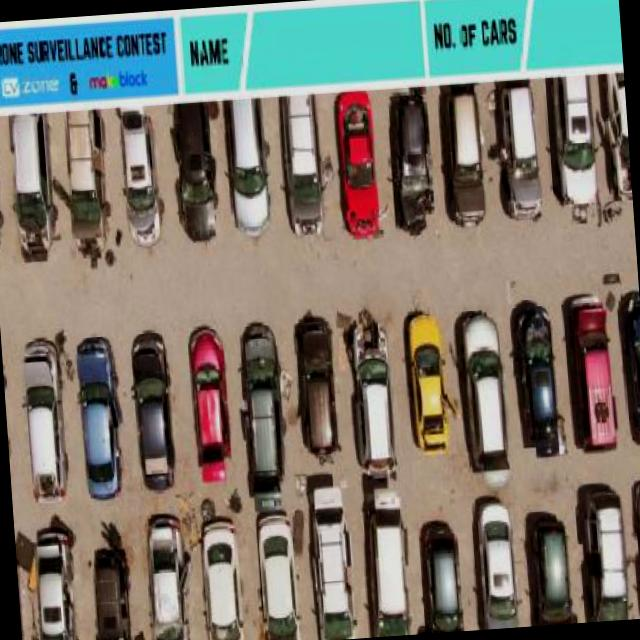car: (346, 308, 408, 474), (72, 331, 132, 500), (234, 318, 288, 498), (455, 310, 511, 483), (566, 288, 624, 452), (507, 294, 564, 458), (125, 328, 181, 490), (382, 84, 440, 240), (288, 310, 346, 466), (398, 304, 455, 462), (17, 333, 70, 502), (18, 511, 83, 640), (330, 88, 385, 238), (360, 474, 409, 637), (185, 324, 238, 474), (168, 100, 222, 244), (303, 478, 351, 640), (192, 504, 248, 640), (6, 109, 56, 261), (494, 78, 547, 220), (57, 106, 108, 253), (274, 94, 325, 238), (111, 103, 162, 245), (140, 507, 193, 640), (548, 74, 600, 209), (582, 482, 632, 622), (471, 490, 520, 625), (442, 85, 486, 231), (225, 97, 270, 236), (251, 507, 298, 640), (522, 506, 574, 623), (418, 515, 465, 633), (84, 540, 139, 640), (598, 68, 632, 202), (618, 286, 640, 444), (629, 474, 640, 618)
